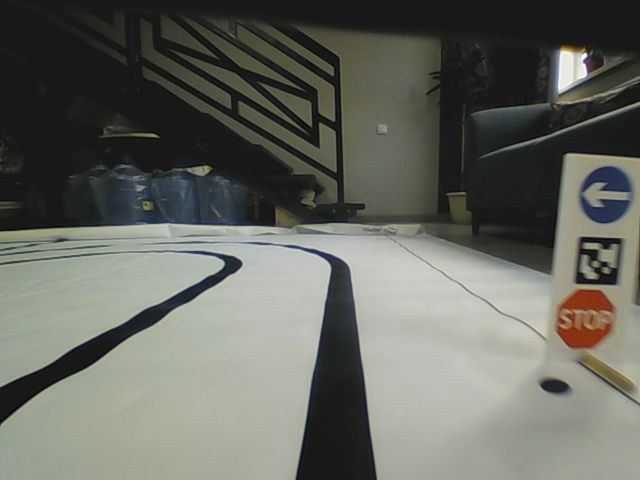Stop: (556, 287, 614, 351)
